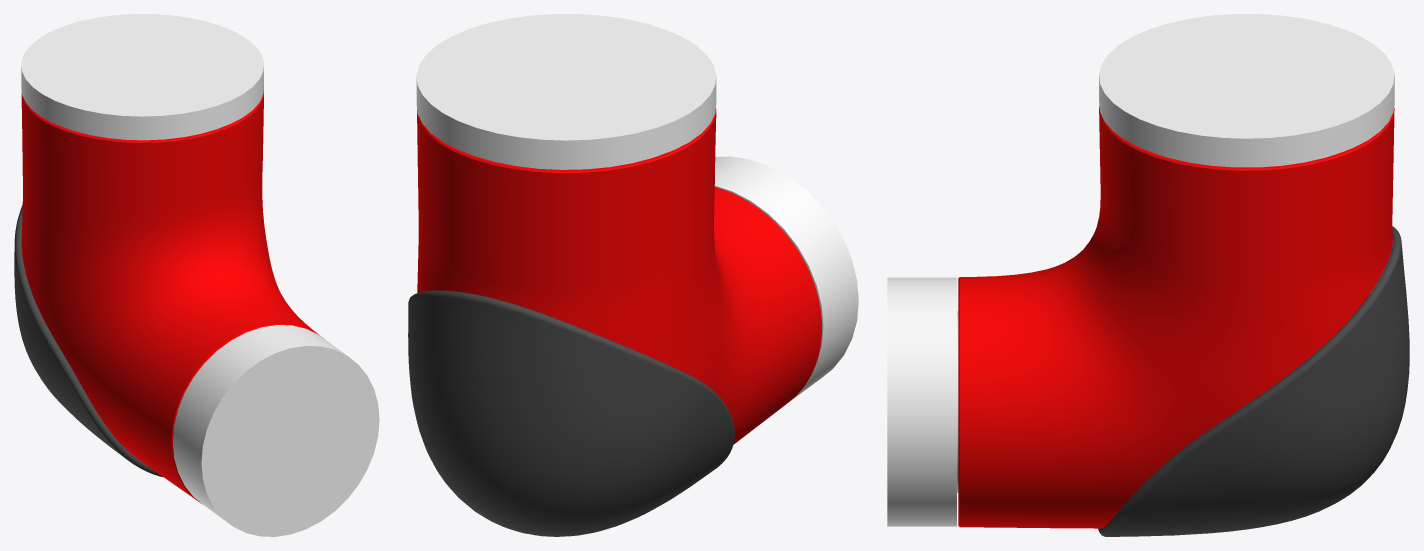
3 renders of one model, left to right at view 1: azimuth 30°, elevation 25°; view 2: azimuth 150°, elevation 25°; view 3: azimuth 270°, elevation 25°, orthographic. The views are drawn at different scales.
Parts seen in each view (by area): view 1: _3DGeom_31, _3DGeom_30, _3DGeom_29; view 2: _3DGeom_31, _3DGeom_29, _3DGeom_30; view 3: _3DGeom_31, _3DGeom_30, _3DGeom_29.
Part boxes in pixels (x1,y1,x2,y2): _3DGeom_31: [21, 90, 323, 504]; _3DGeom_30: [21, 14, 379, 536]; _3DGeom_29: [14, 205, 163, 477]; _3DGeom_31: [417, 109, 821, 444]; _3DGeom_29: [408, 290, 734, 536]; _3DGeom_30: [416, 14, 858, 399]; _3DGeom_31: [958, 106, 1394, 528]; _3DGeom_30: [887, 14, 1394, 526]; _3DGeom_29: [1098, 226, 1409, 536].
Size of the model in its own units: 0.1084 by 0.1838 by 0.1739.
